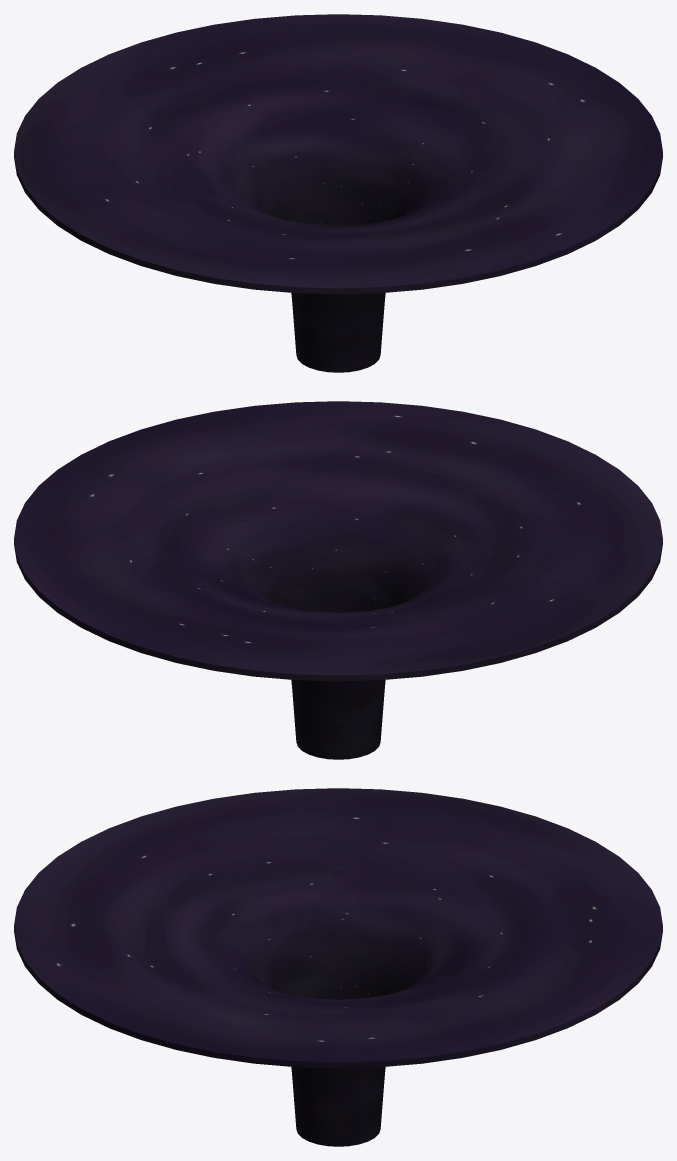
The model's file is ha_h__table_main.glb.
3 renders of one model, top to bottom at view 1: azimuth 30°, elevation 25°; view 2: azimuth 150°, elevation 25°; view 3: azimuth 270°, elevation 25°, orthographic.
Visible parts, largest first — view 1: Object_2; view 2: Object_2; view 3: Object_2.
Boxes of the visible parts, bbox=[...] form: Object_2: bbox=[14, 14, 662, 372]; Object_2: bbox=[14, 401, 662, 759]; Object_2: bbox=[14, 788, 662, 1146].
Size of the model in its own units: 297 by 103 by 297.
Materials: 1 (1 with a texture image).
